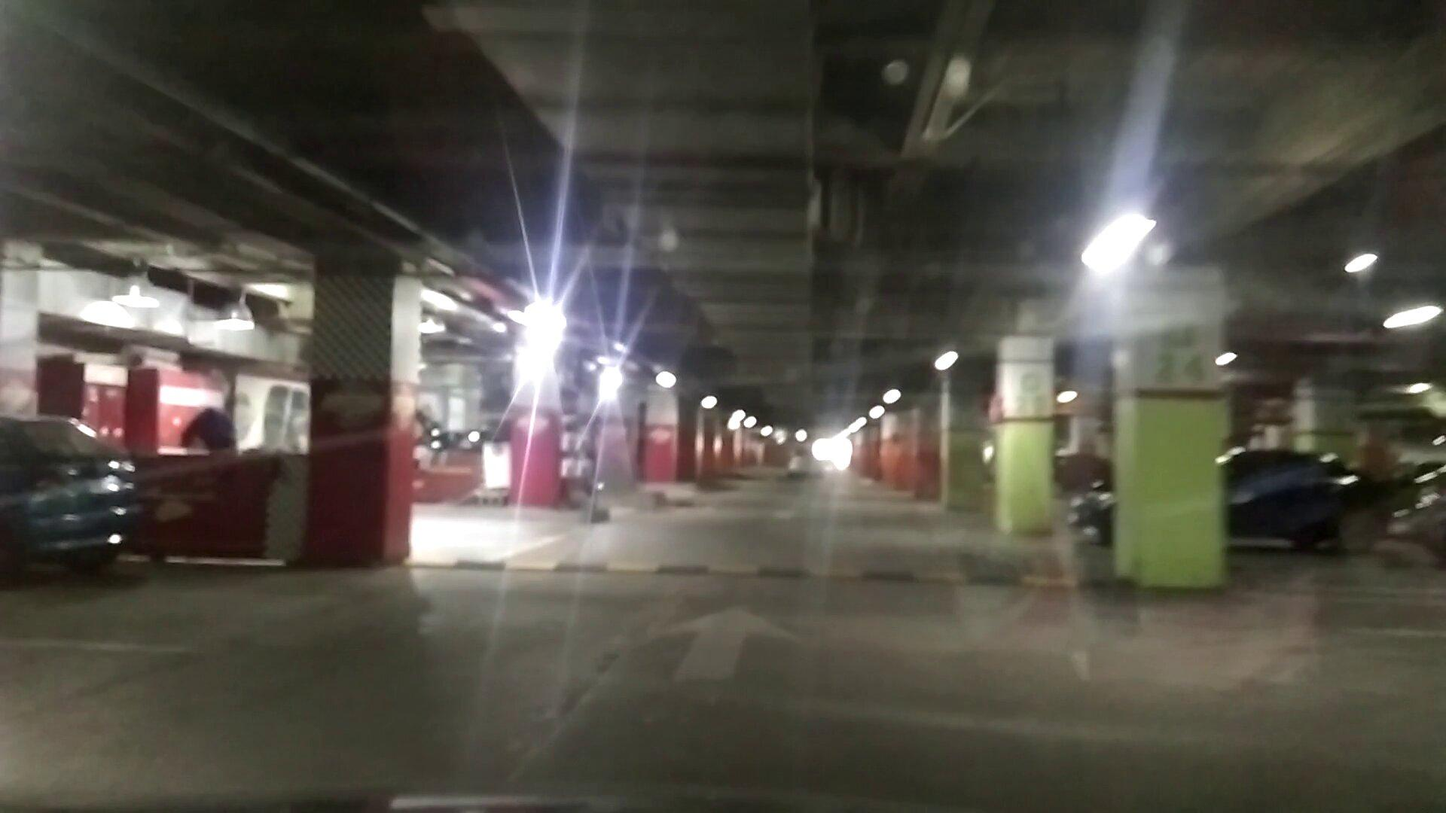Bump: (422, 546, 1111, 608)
